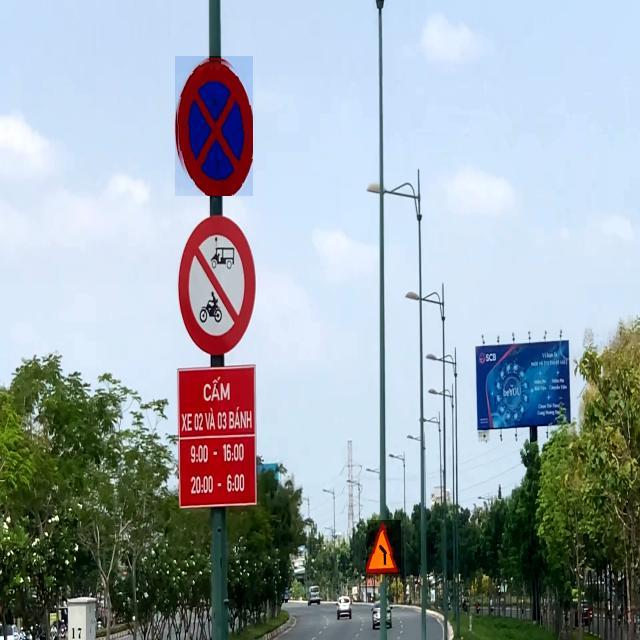P-130: (175, 56, 253, 196)
W-201a: (366, 521, 401, 575)
